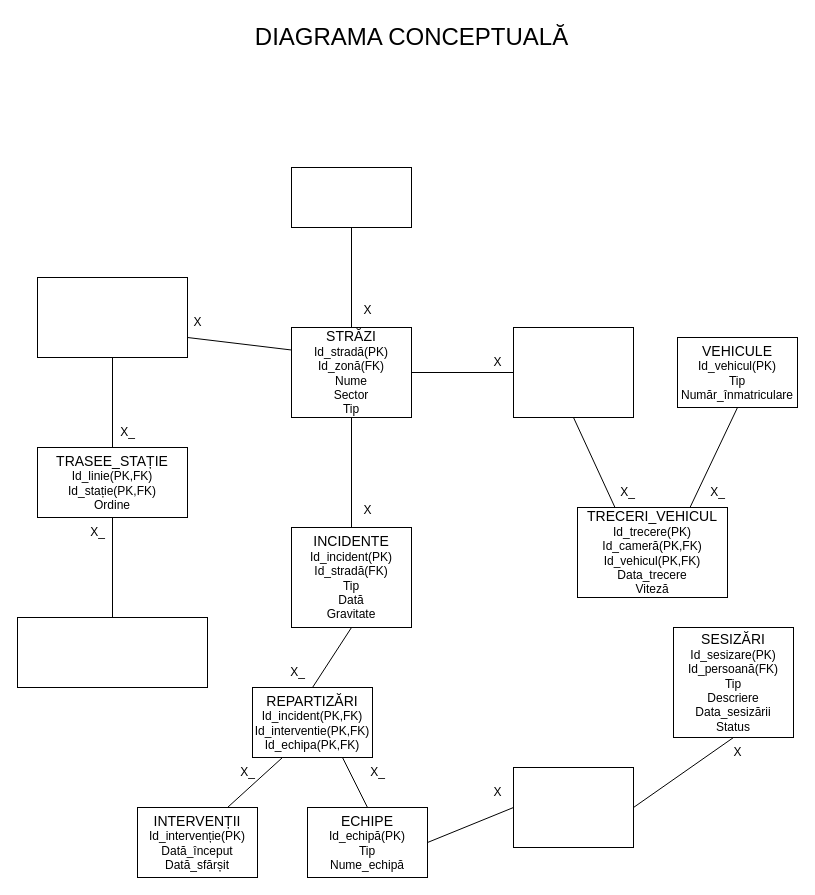
Some shapes in this 815 by 895 pixel diagram are drawn without their labels. The centre of each missing label's shape, as x and y in pixels:
CAMERE Id_cameră(PK) Id_stradă(FK) Tip Status: (573,372)
LINII_TRANSPORT_COMUN Id_linie(PK) Tip Linie: (112,652)
PERSOANE Id_persoană(PK) Id_echipă(FK) Nume Funcție: (573,807)
STAȚII_TRANSPORT Id_stație(PK) Id_zonă(FK) Nume Sector: (112,317)
ZONE Id_zonă(PK) Nume_zonă: (351,197)
